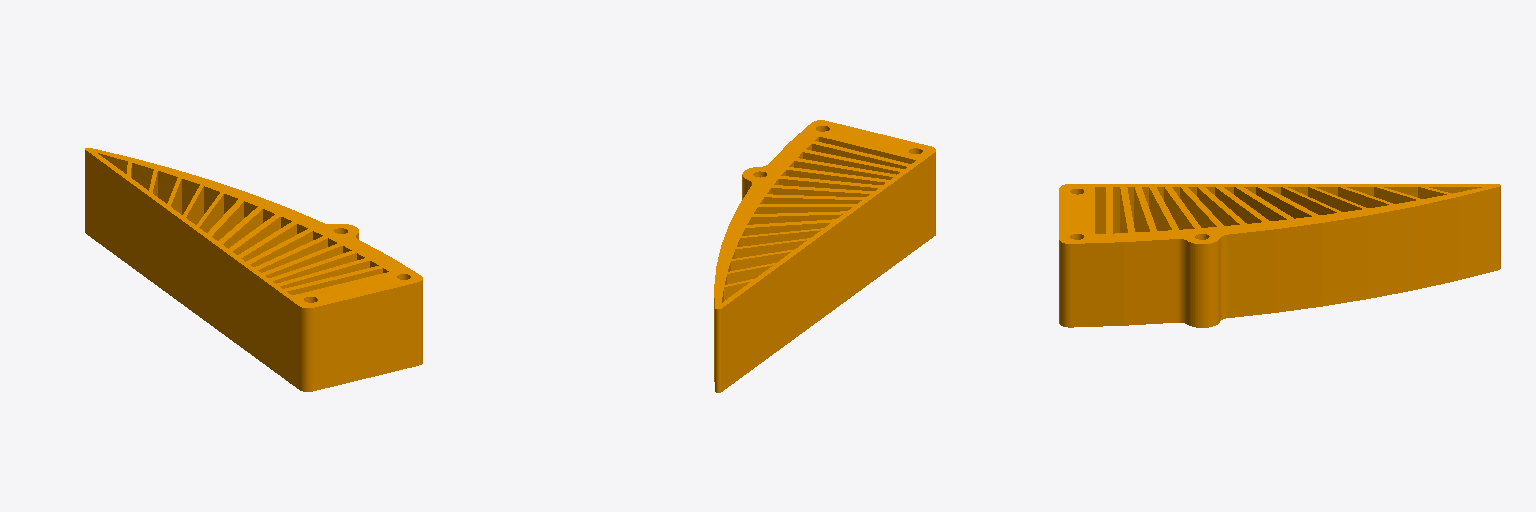
The model's file is soft_gripper_finger.obj.
3 renders of one model, left to right at view 1: azimuth 30°, elevation 25°; view 2: azimuth 150°, elevation 25°; view 3: azimuth 270°, elevation 25°, orthographic.
Visible parts, largest first — view 1: mesh65, mesh2, mesh64, mesh74; view 2: mesh65, mesh2, mesh44, mesh48, mesh40; view 3: mesh66, mesh2, mesh70, mesh67, mesh73, mesh72, mesh71.
Boxes of the visible parts, x1=… form: mesh65: x1=86, y1=151, x2=298, y2=388; mesh2: x1=85, y1=148, x2=422, y2=307; mesh64: x1=314, y1=282, x2=417, y2=390; mesh74: x1=299, y1=306, x2=313, y2=391; mesh65: x1=721, y1=153, x2=934, y2=391; mesh2: x1=714, y1=120, x2=935, y2=308; mesh44: x1=740, y1=230, x2=820, y2=246; mesh48: x1=735, y1=240, x2=806, y2=258; mesh40: x1=745, y1=223, x2=829, y2=235; mesh66: x1=1228, y1=187, x2=1498, y2=317; mesh2: x1=1059, y1=184, x2=1500, y2=243; mesh70: x1=1071, y1=239, x2=1176, y2=327; mesh67: x1=1188, y1=239, x2=1219, y2=327; mesh73: x1=1059, y1=240, x2=1070, y2=327; mesh72: x1=1177, y1=239, x2=1187, y2=324; mesh71: x1=1220, y1=235, x2=1227, y2=320.
Size of the model in its own units: 0.04 by 0.0258 by 0.1234.